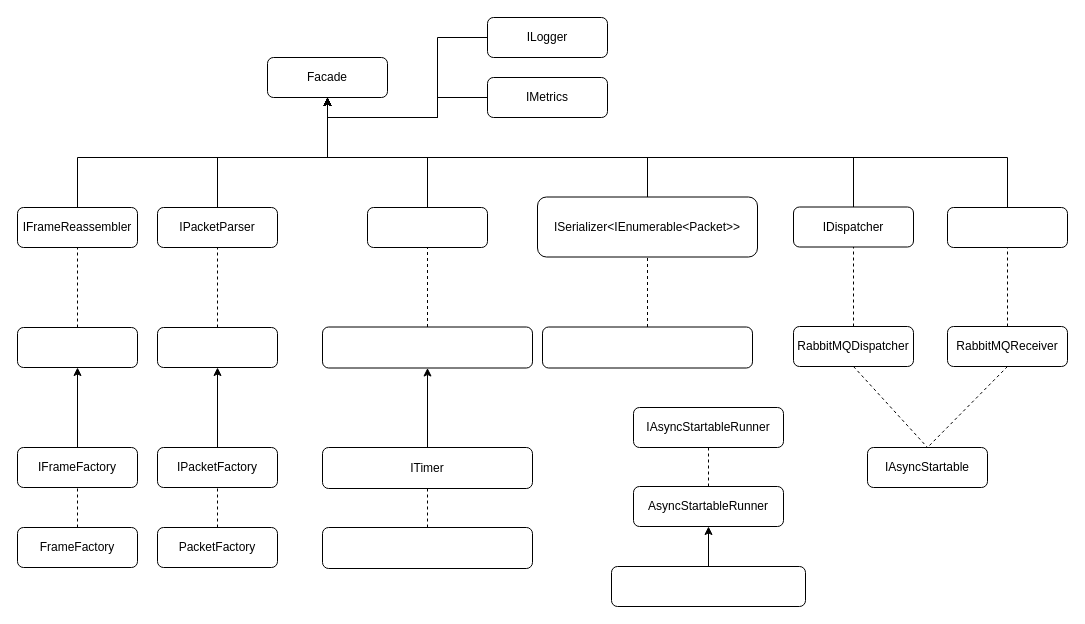
Image size: 1085x624. Some labels were removed from this diagram. The shapes that lost their labels are listed below. From the top down, each one's box as (x1, y1, x2, y2) in pixels, then its label:
(366, 206, 488, 248): IAggregator<Packet>
(946, 206, 1068, 248): IReceiver
(16, 326, 138, 368): FrameReassembler
(156, 326, 278, 368): PacketParser
(322, 326, 532, 368): TimeAndCountBasedAggregator<T>
(542, 326, 752, 368): YamlSerializer<T>
(322, 526, 532, 568): TimerWrapper
(610, 566, 806, 606): IEnumerable<IAsyncStartable>
